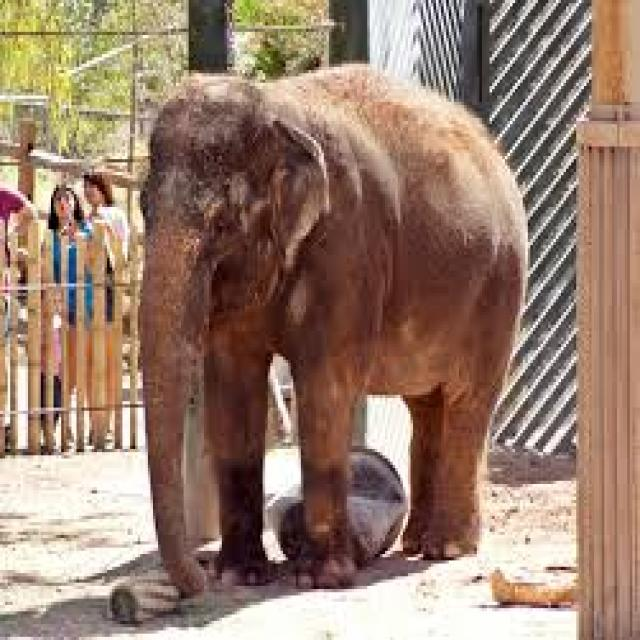Elephant: (135, 60, 528, 596)
person: (39, 182, 94, 456), (82, 169, 130, 449)
